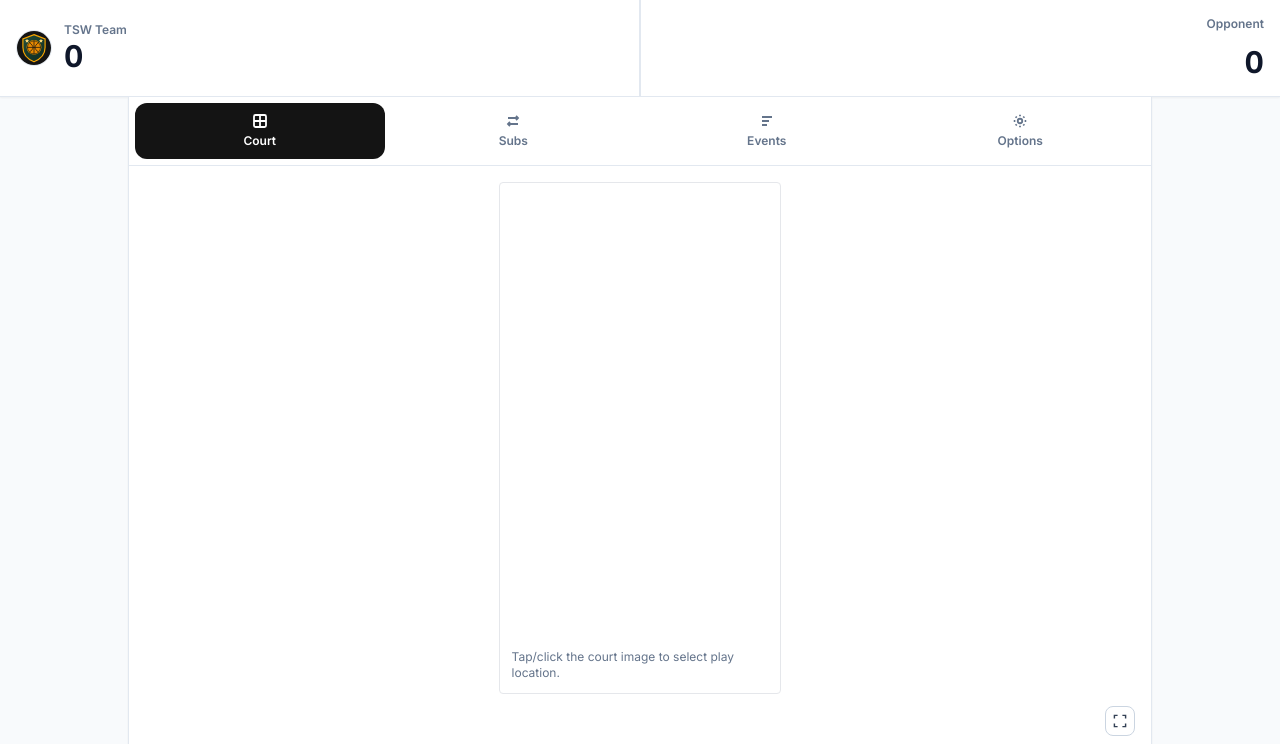
GameTrackPage › refuses an opponent point value that conflicts with the tapped location
Step 1. Click the button "Options" → x=1020, y=131, box [896,103,1145,159]
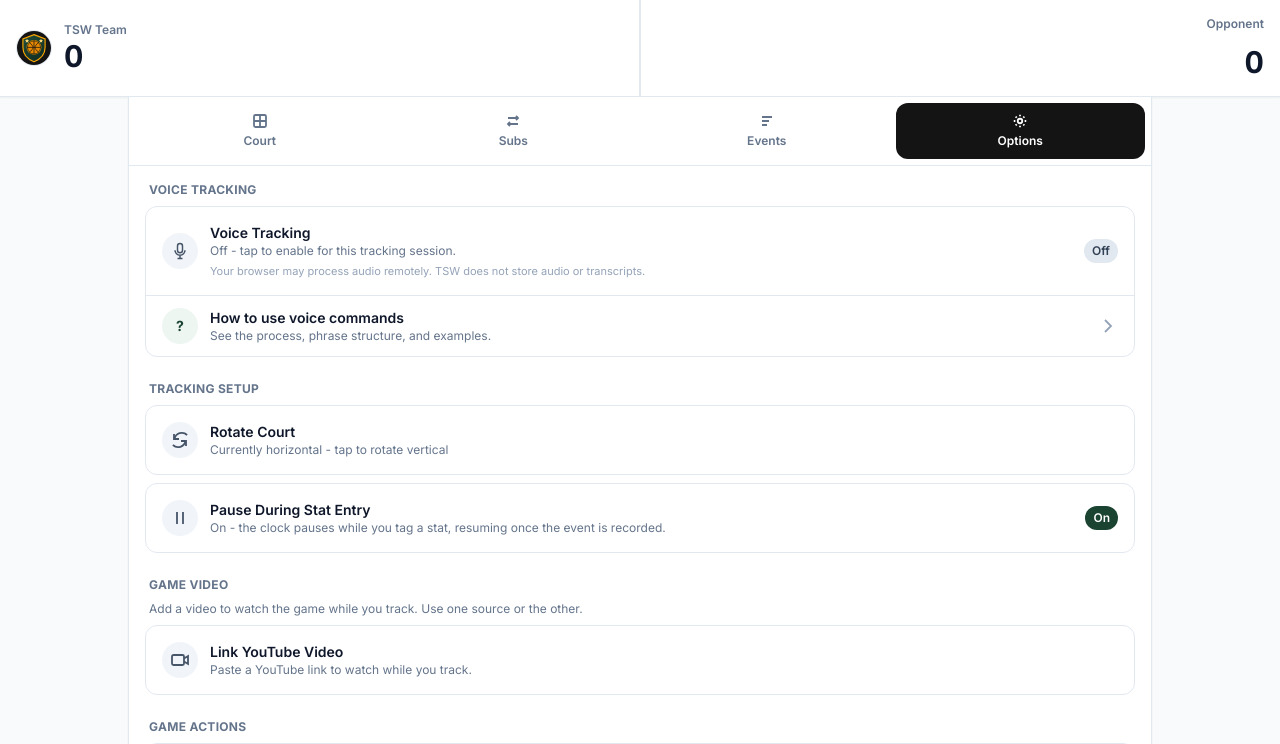
Step 2. Click the button "Voice Tracking" → x=180, y=251, box [146,207,1134,295]
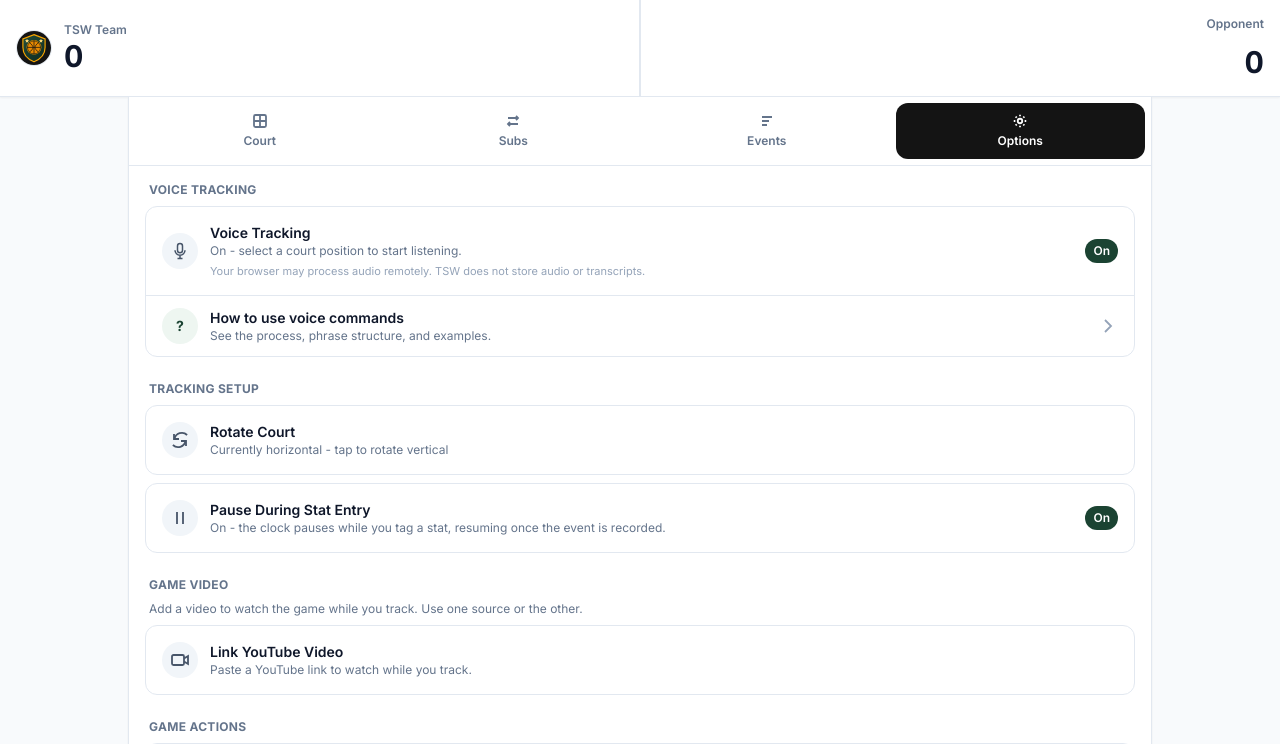
Step 3. Click the button "Court" → x=260, y=131, box [135,103,384,159]
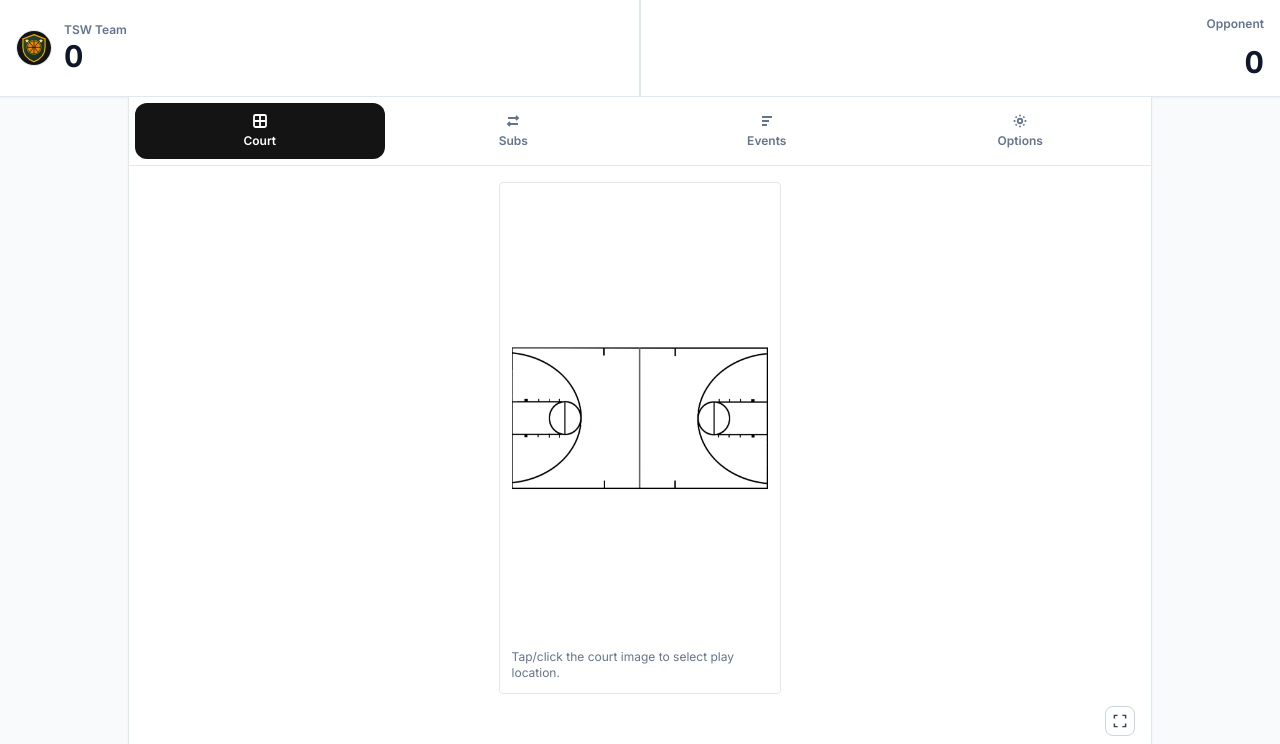
Step 4. Press the mouse on the picture with test id "interactive-court-image" → x=640, y=418, box [512,347,768,489]
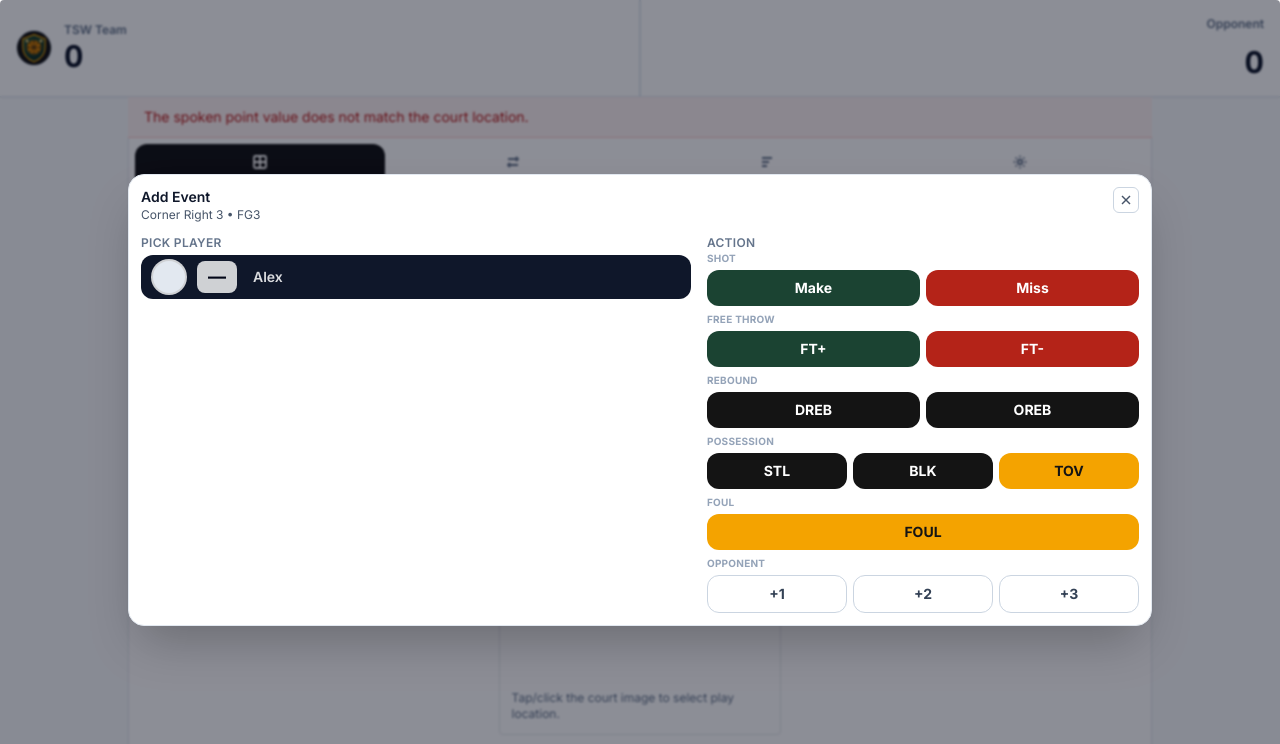
Check: the text "The spoken point value does not match the court location." is shown, box [128,97,1152,138]
Check: the button named "Close event picker" is shown, box [1113,187,1139,213]
Check: the text "Corner Right 3 • FG3" is shown, box [141,207,260,223]
